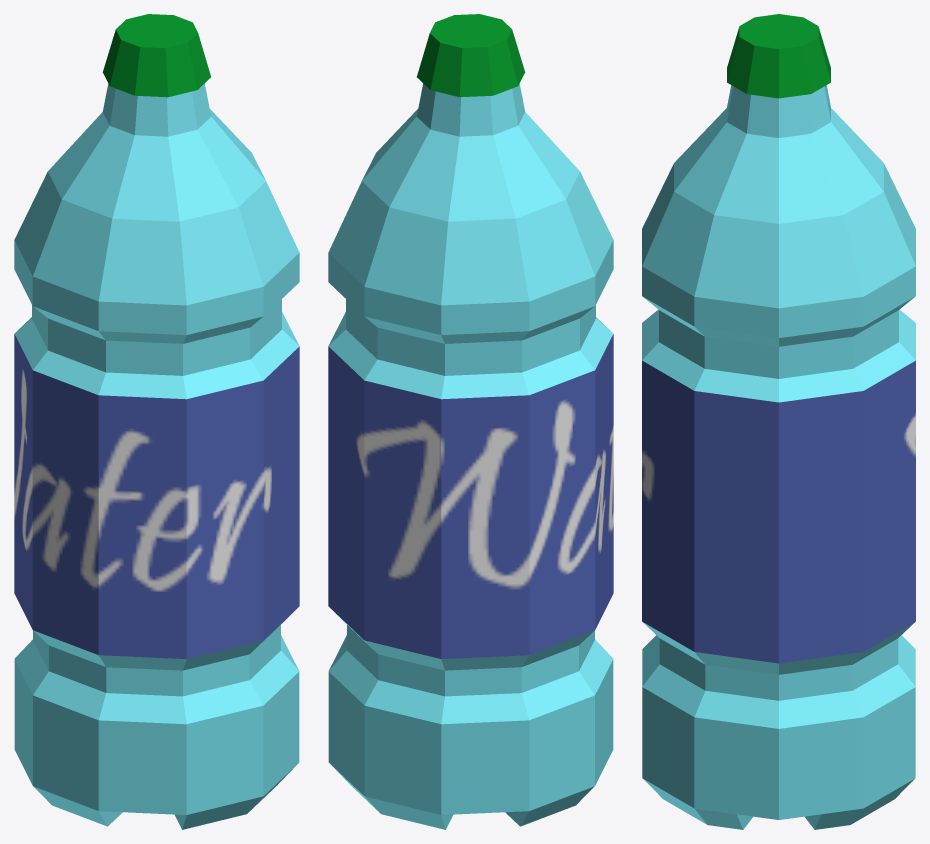
The model's file is bottle.fbx.
3 views of the same model, side by side, from view 1: azimuth 30°, elevation 25°; view 2: azimuth 150°, elevation 25°; view 3: azimuth 270°, elevation 25° (orthographic).
Parts seen in each view (by area): view 1: pCylinder1; view 2: pCylinder1; view 3: pCylinder1.
Boxes of the visible parts, bbox=[...] form: pCylinder1: bbox=[14, 14, 299, 829]; pCylinder1: bbox=[328, 14, 613, 829]; pCylinder1: bbox=[642, 14, 915, 829].
Bounding box in the file's own units: 2 × 5.76 × 1.9.
